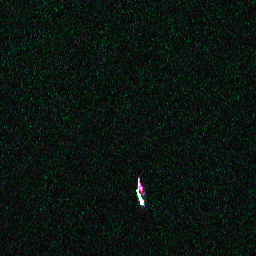ship: (134, 188, 146, 207)
